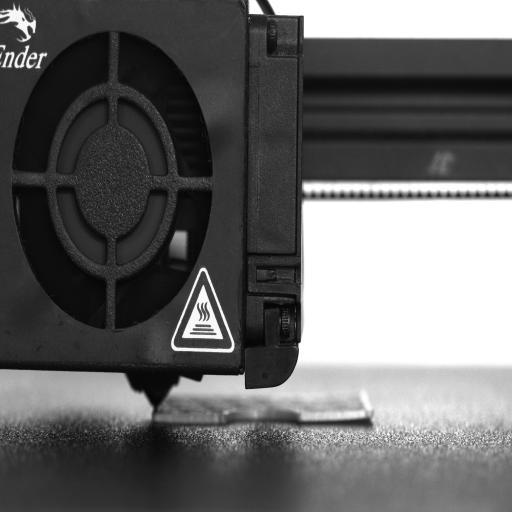warp: (324, 405, 380, 426)
